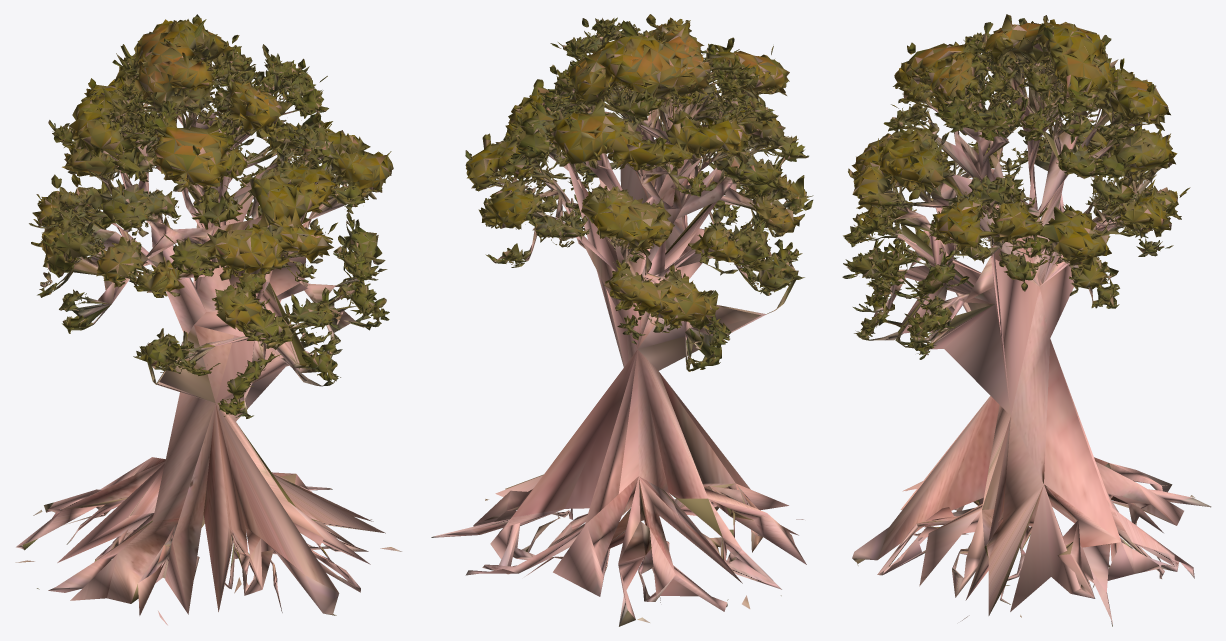
The model's file is Metaphor_The_Tree_of.glb.
The picture shows the model from 3 angles, left to right: view 1: azimuth 30°, elevation 25°; view 2: azimuth 150°, elevation 25°; view 3: azimuth 270°, elevation 25°; orthographic projection. The views are drawn at different scales.
Parts seen in each view (by area): view 1: Metaphor_The_Tree_of; view 2: Metaphor_The_Tree_of; view 3: Metaphor_The_Tree_of.
Part boxes in pixels (x1=…): Metaphor_The_Tree_of: x1=15, y1=14, x2=401, y2=625; Metaphor_The_Tree_of: x1=431, y1=14, x2=813, y2=626; Metaphor_The_Tree_of: x1=842, y1=14, x2=1211, y2=626.
Bounding box in the file's own units: 1.26 × 2 × 1.27.
1 material, 1 textured.
